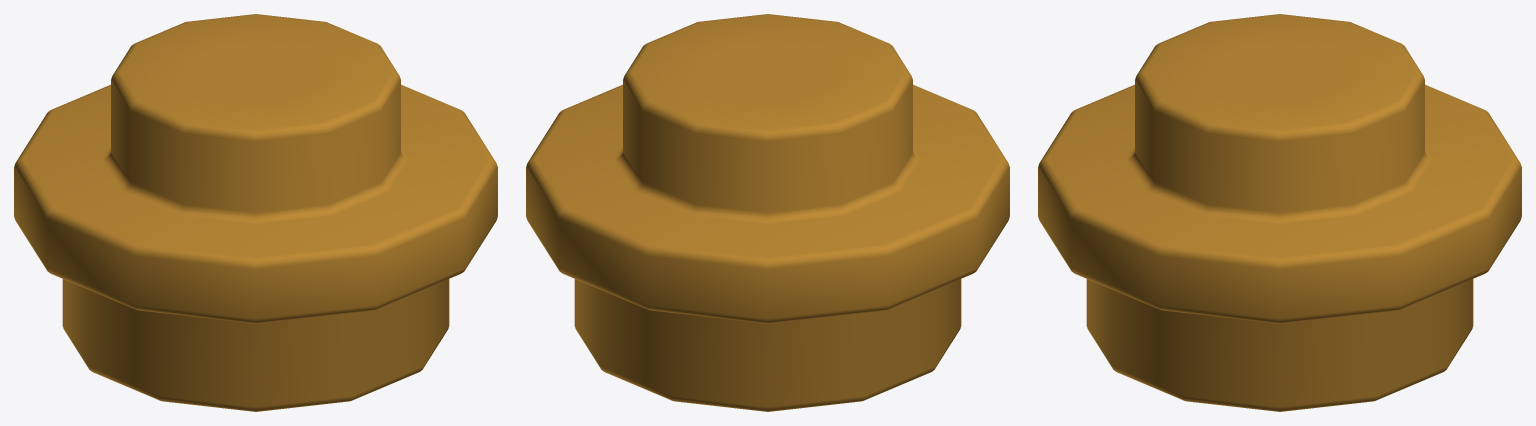
Rendered from LEGO_Gold_Coin.fbx.
The picture shows the model from 3 angles, left to right: view 1: azimuth 30°, elevation 25°; view 2: azimuth 150°, elevation 25°; view 3: azimuth 270°, elevation 25°; orthographic projection.
Parts seen in each view (by area): view 1: Stud_Gold; view 2: Stud_Gold; view 3: Stud_Gold.
Boxes of the visible parts, left/top/right/bottom form: Stud_Gold: left=14, top=14, right=497, bottom=411; Stud_Gold: left=526, top=14, right=1009, bottom=411; Stud_Gold: left=1038, top=14, right=1521, bottom=411.
Bounding box in the file's own units: 27.94 × 27.94 × 16.62.
